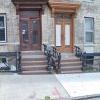stairs: (12, 54, 50, 76), (56, 56, 98, 75)
